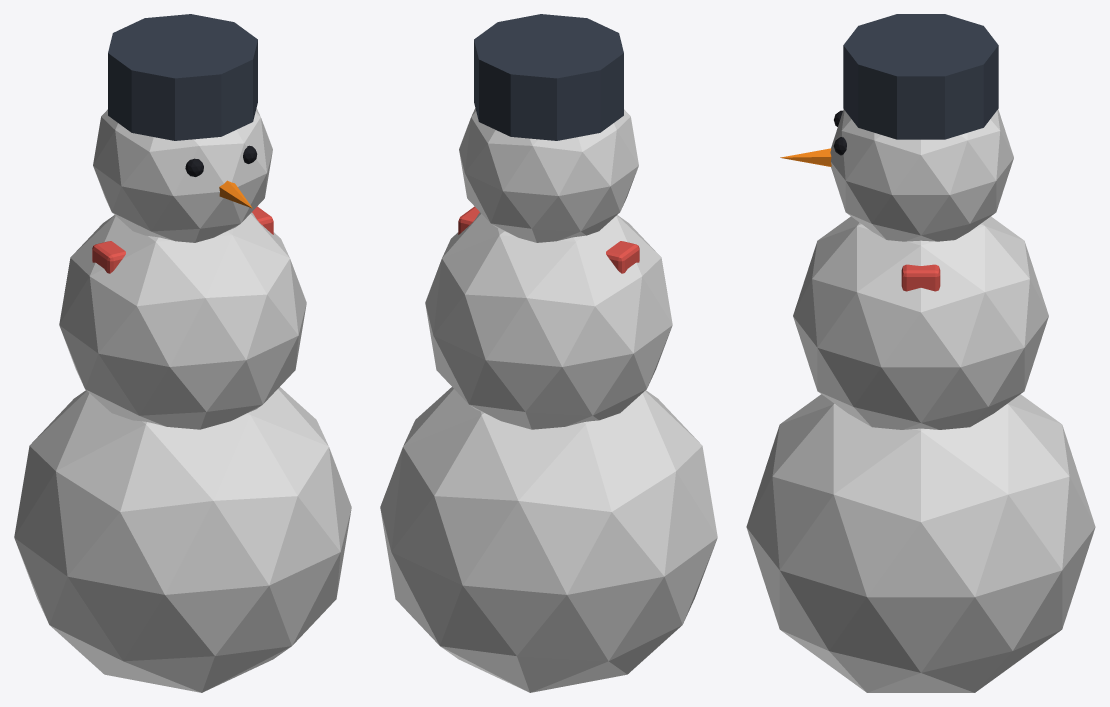
Rendered from Ski_Snowman.fbx.
The picture shows the model from 3 angles, left to right: view 1: azimuth 30°, elevation 25°; view 2: azimuth 150°, elevation 25°; view 3: azimuth 270°, elevation 25°; orthographic projection.
Parts seen in each view (by area): view 1: Snowman; view 2: Snowman; view 3: Snowman.
Part boxes in pixels (x1,y1,x2,y2): Snowman: (14, 14, 351, 692); Snowman: (380, 14, 717, 692); Snowman: (746, 14, 1095, 692).
Size of the model in its own units: 0.856 by 1.82 by 0.9.
